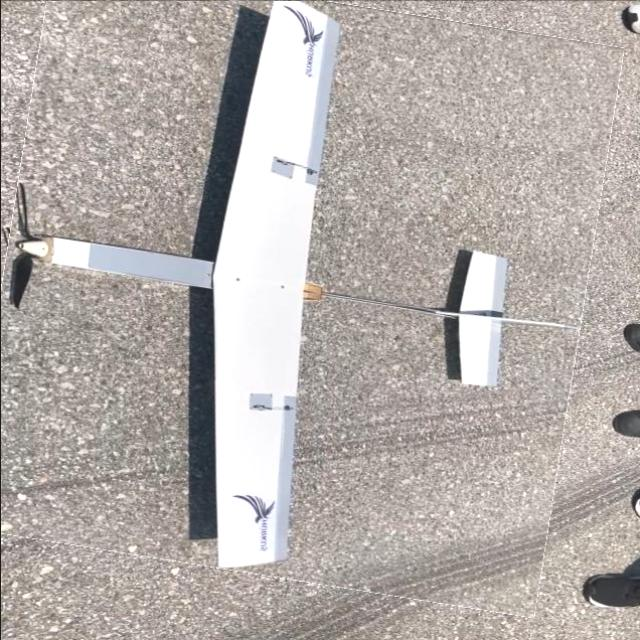plane: (0, 0, 623, 619)
